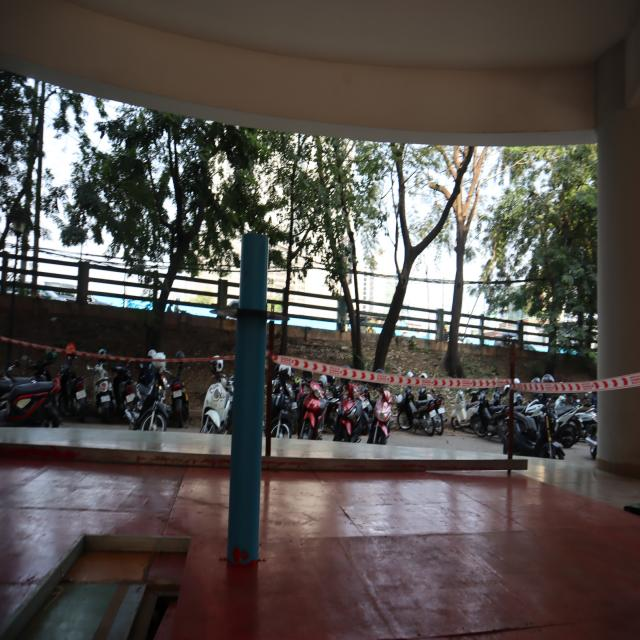pole: (208, 226, 291, 408)
